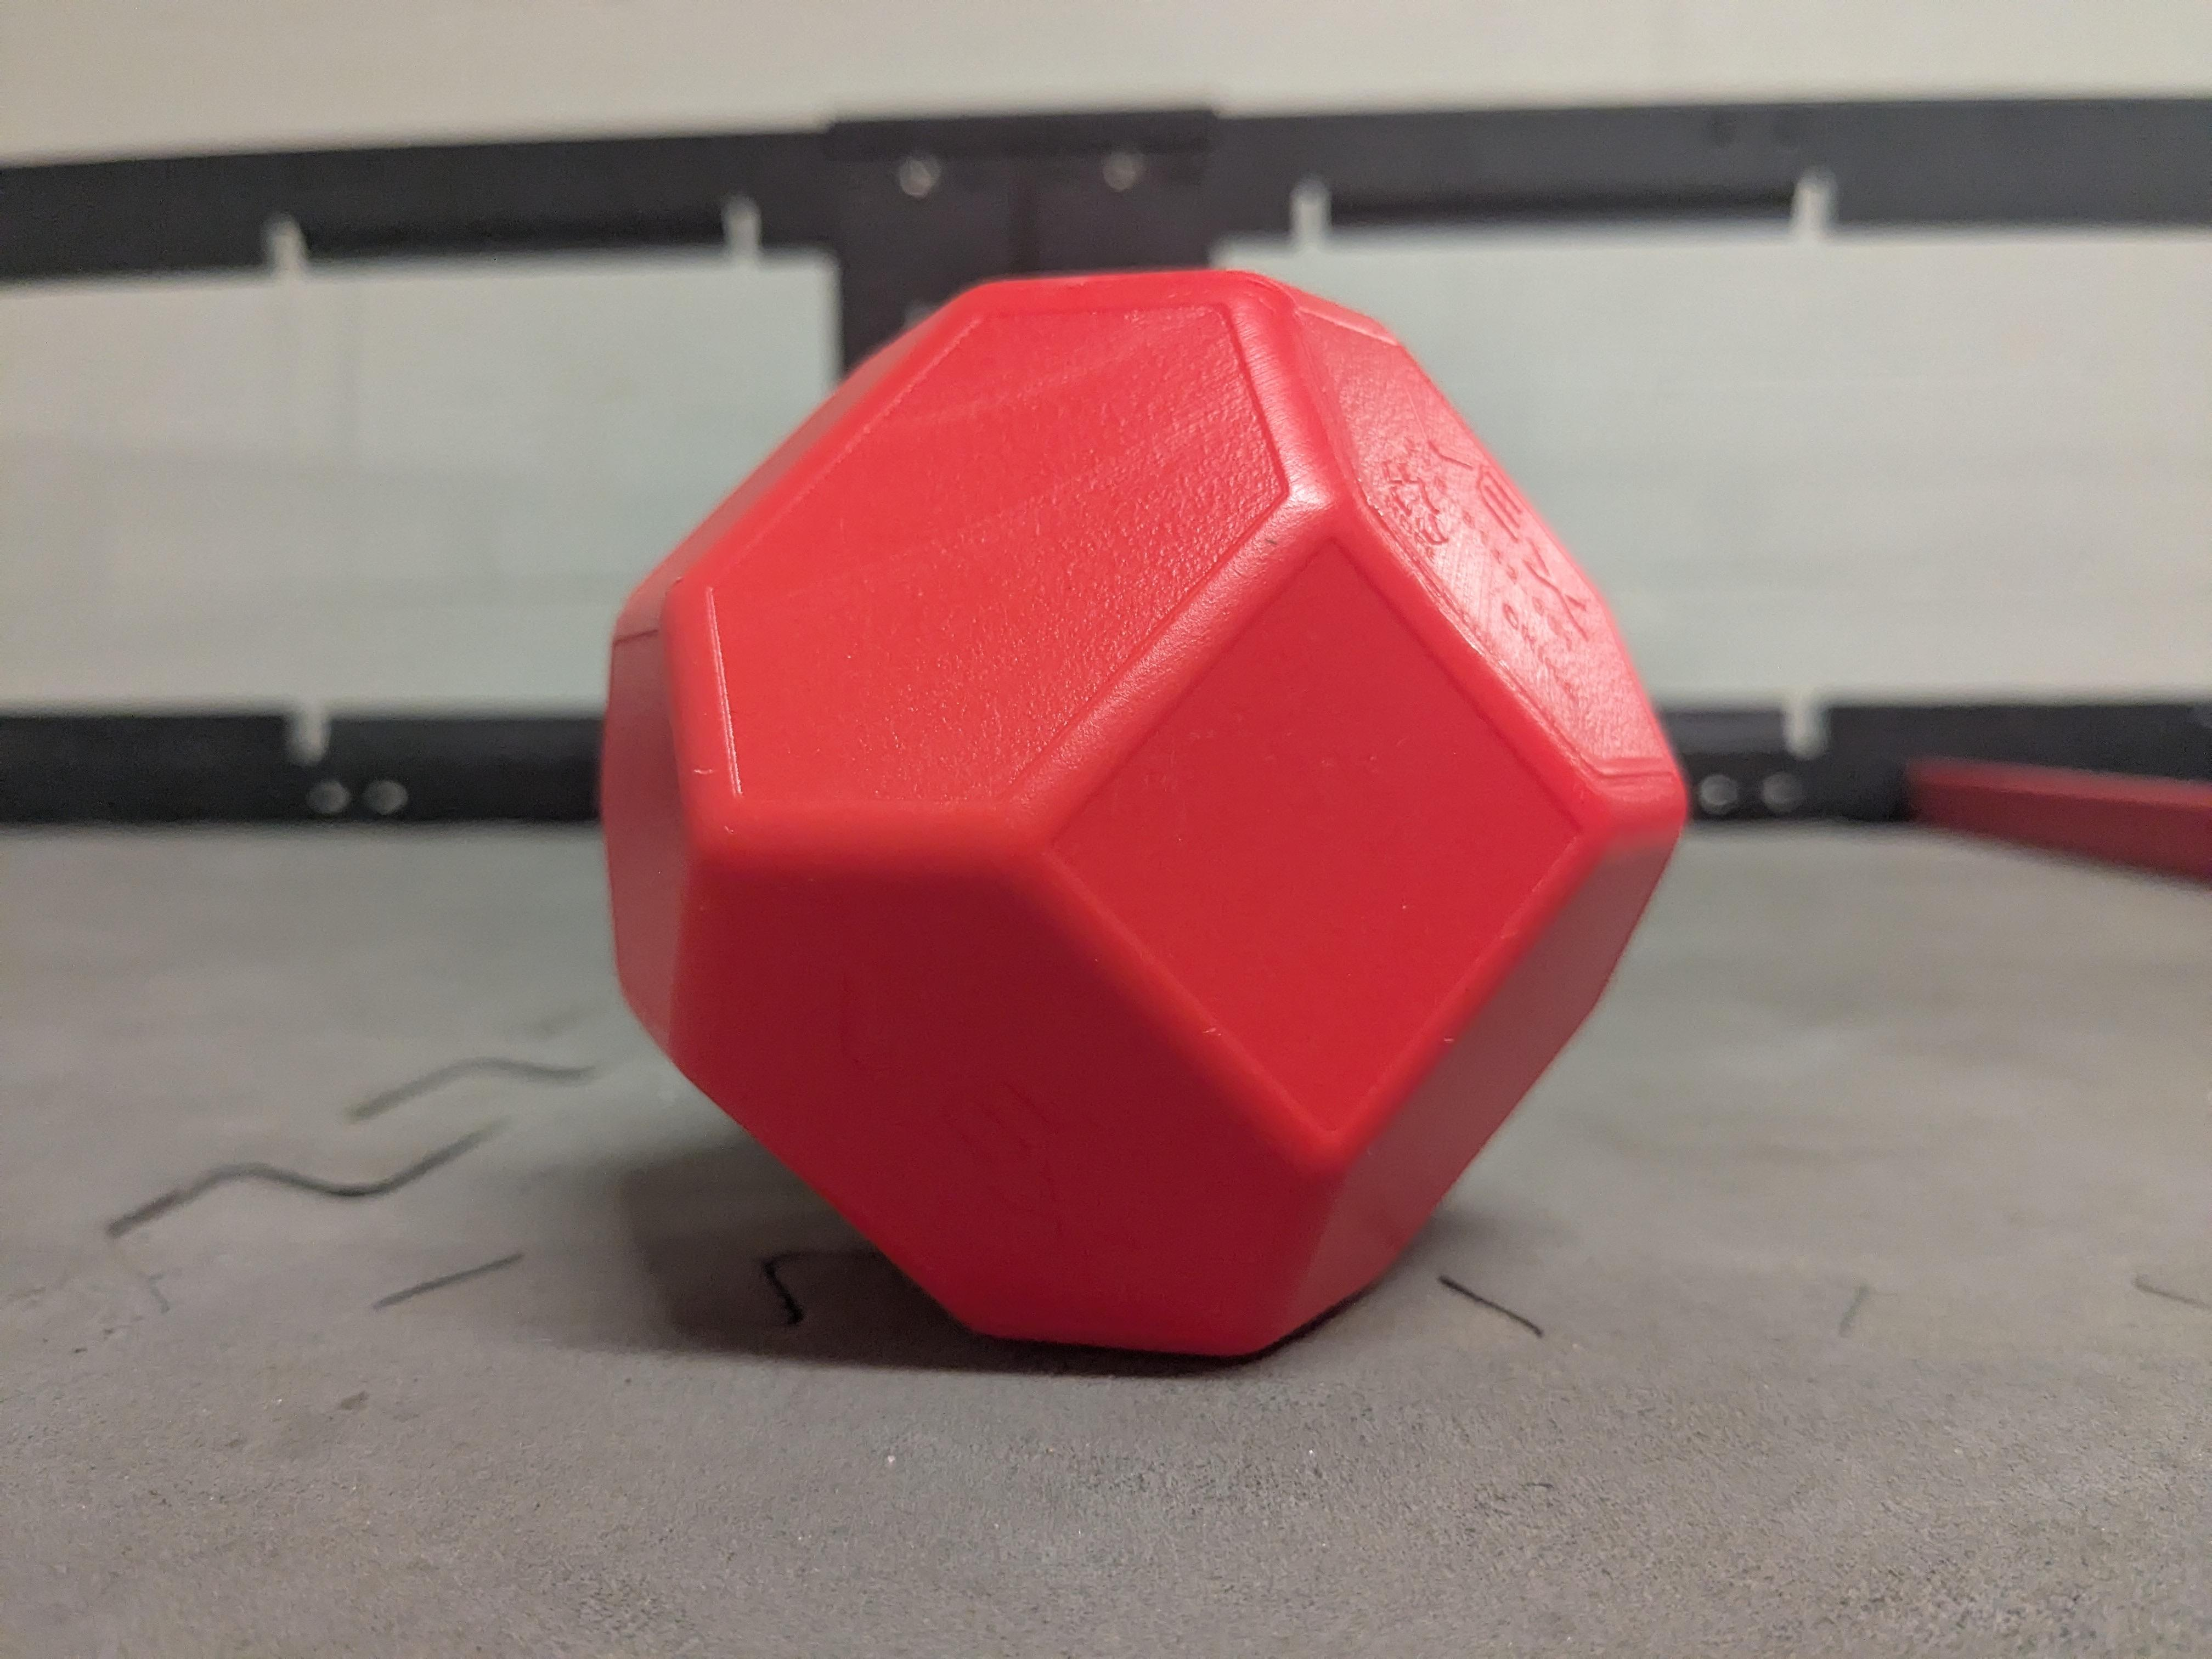Vex-Pieces-RED: (604, 272, 1683, 1354)
